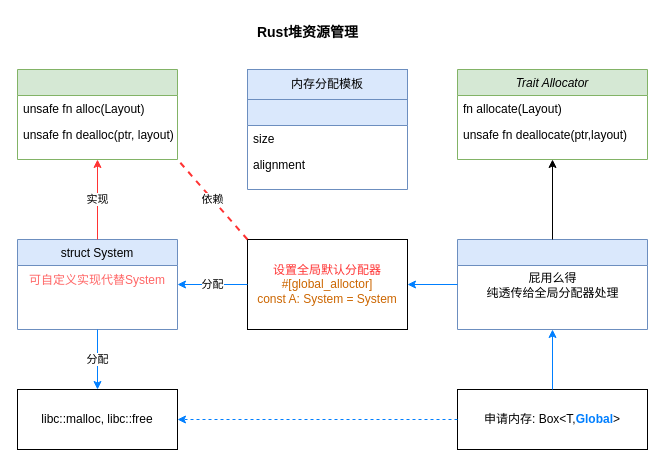
Image size: 665x467. Some labels were removed from this diagram. Each missing label, with the box of its shape:
struct Global: (456, 238, 648, 330)
Struct Layout: (246, 98, 408, 190)
Trait GlobalAlloc: (16, 68, 178, 160)
